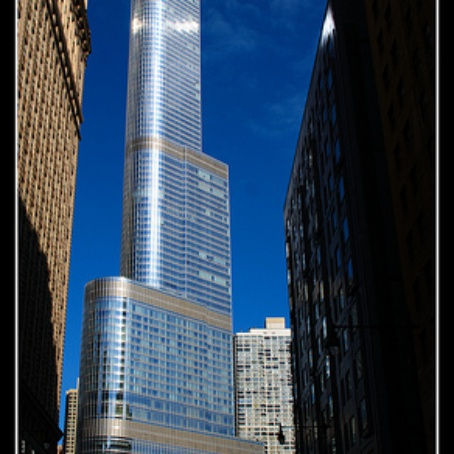building: (80, 1, 240, 447), (292, 4, 443, 441), (1, 1, 87, 454), (230, 328, 305, 454)
sky: (75, 1, 310, 267)
